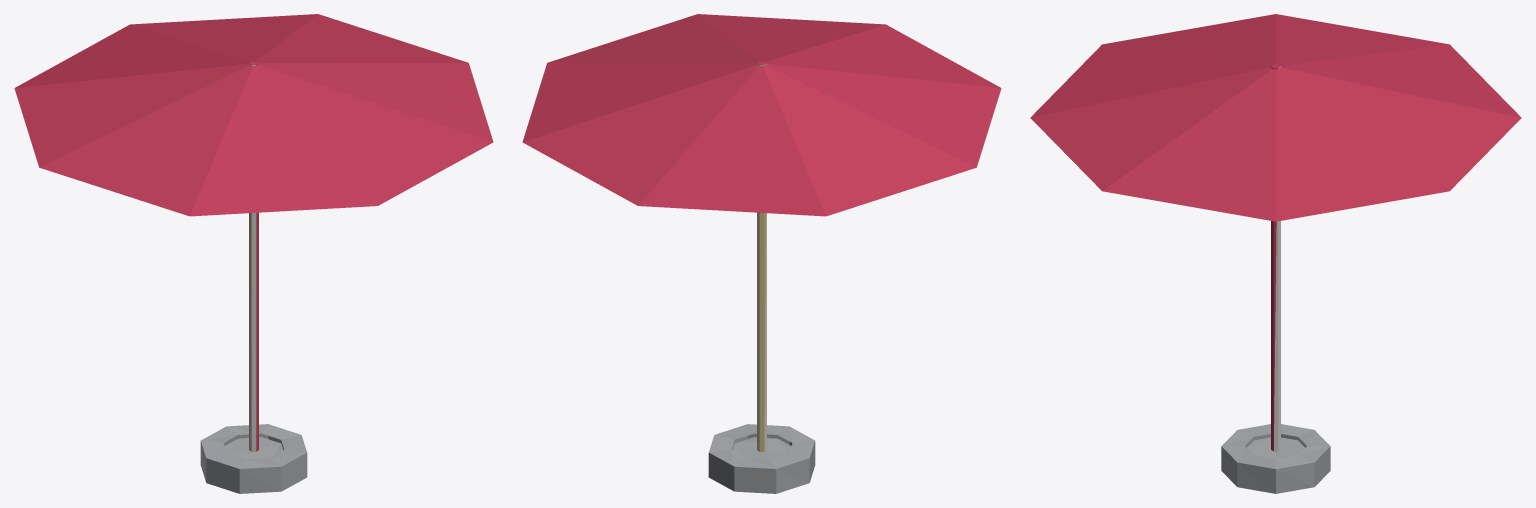
The model's file is beach-umbrella-00.glb.
3 renders of one model, left to right at view 1: azimuth 30°, elevation 25°; view 2: azimuth 150°, elevation 25°; view 3: azimuth 270°, elevation 25°, orthographic.
Parts seen in each view (by area): view 1: beach_umbrella_00; view 2: beach_umbrella_00; view 3: beach_umbrella_00.
Part boxes in pixels (<box>): beach_umbrella_00: <box>14,14,493,493</box>; beach_umbrella_00: <box>522,14,1001,493</box>; beach_umbrella_00: <box>1030,14,1521,493</box>.
Size of the model in its own units: 2.52 by 2.29 by 2.52.
